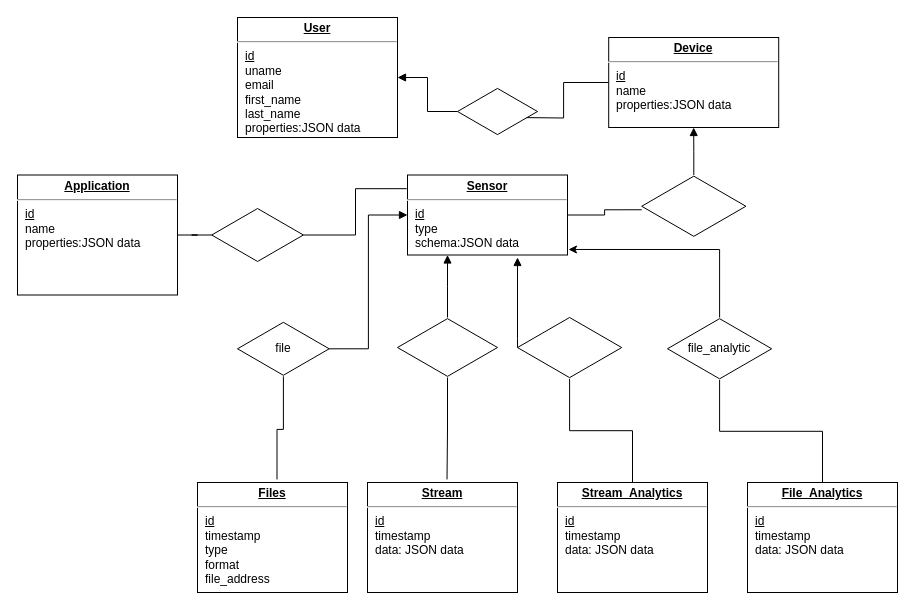
The diagram is 915 pixels wide and 610 high, and some of its shapes have lost their labels. The shapes that lost their labels are listed below. From the top down, each one's centre as x and y in pixels, then its label:
At (497,111): "owned_by".
At (693,206): "has_device".
At (257,234): "uses".
At (447,347): "stream".
At (569,347): "stream_analytics".
